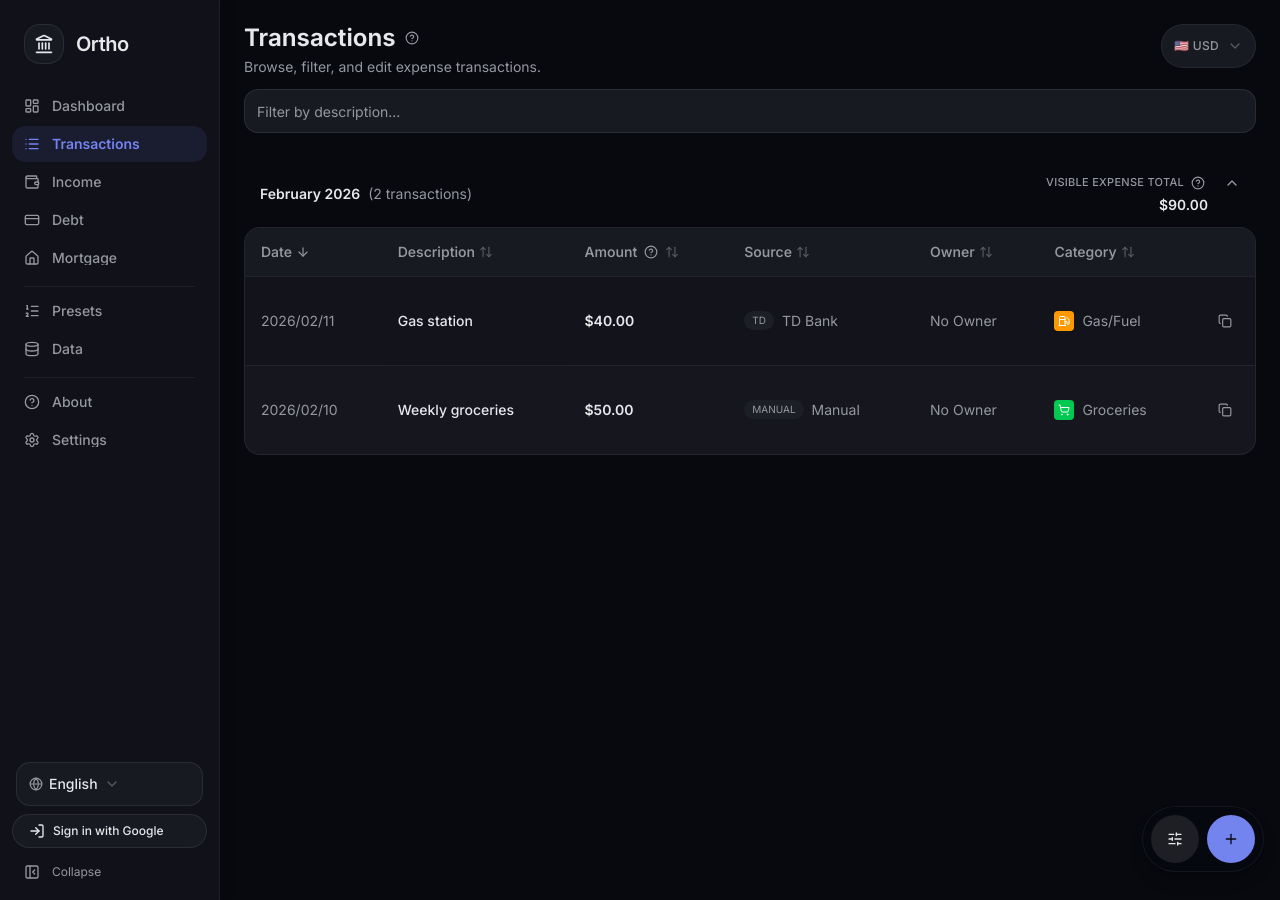
Test: integration: user can search transactions and navigate between pages
The image size is (1280, 900).
Type "weekly" into the field named "Search description".
click(750, 111); type("weekly")  # box [244, 89, 1256, 133]
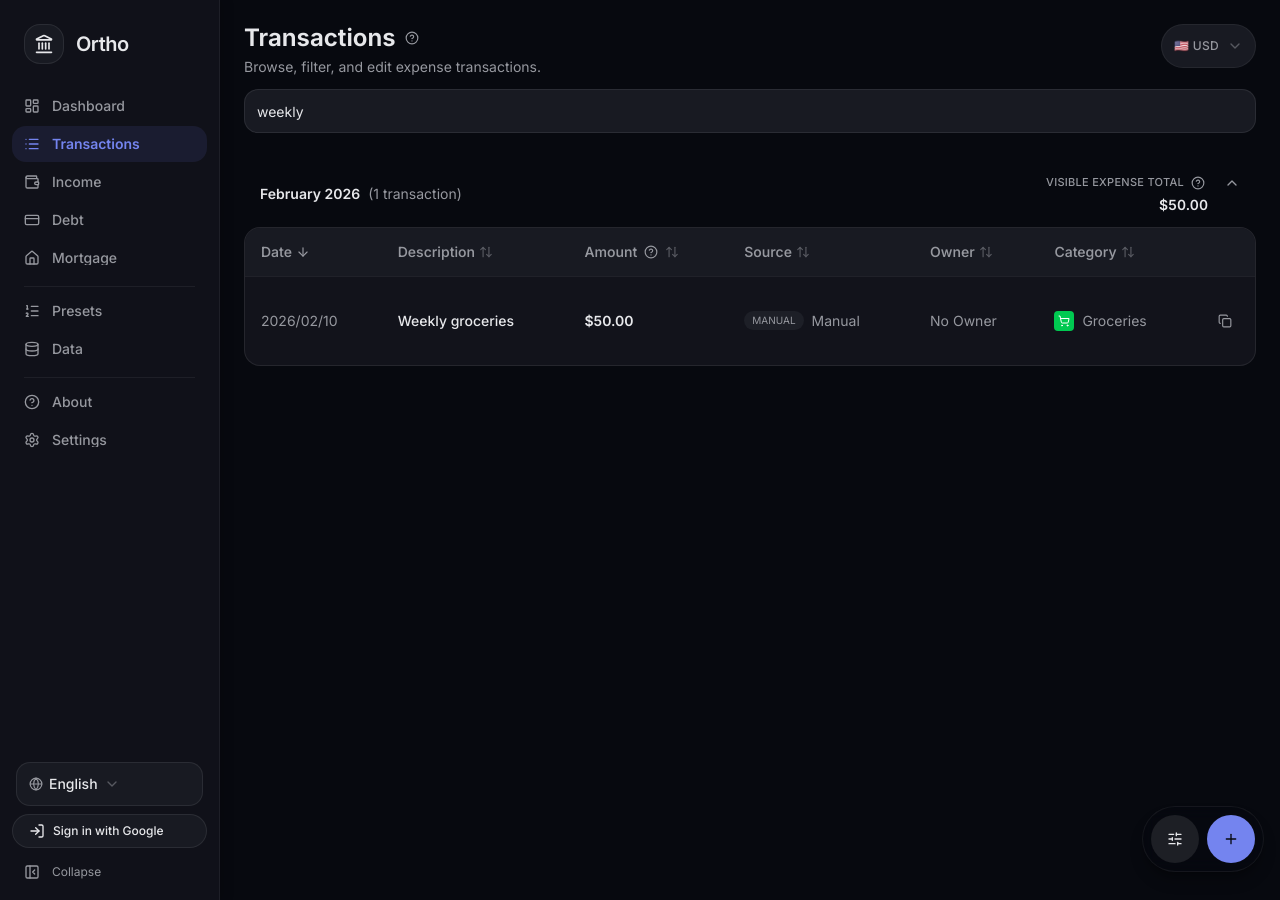
Check: the text "Weekly groceries" is shown, box [382, 276, 568, 365]
Check: the button "Gas station" is gone
Click the link "Income".
click(63, 182)  # box [24, 173, 101, 190]
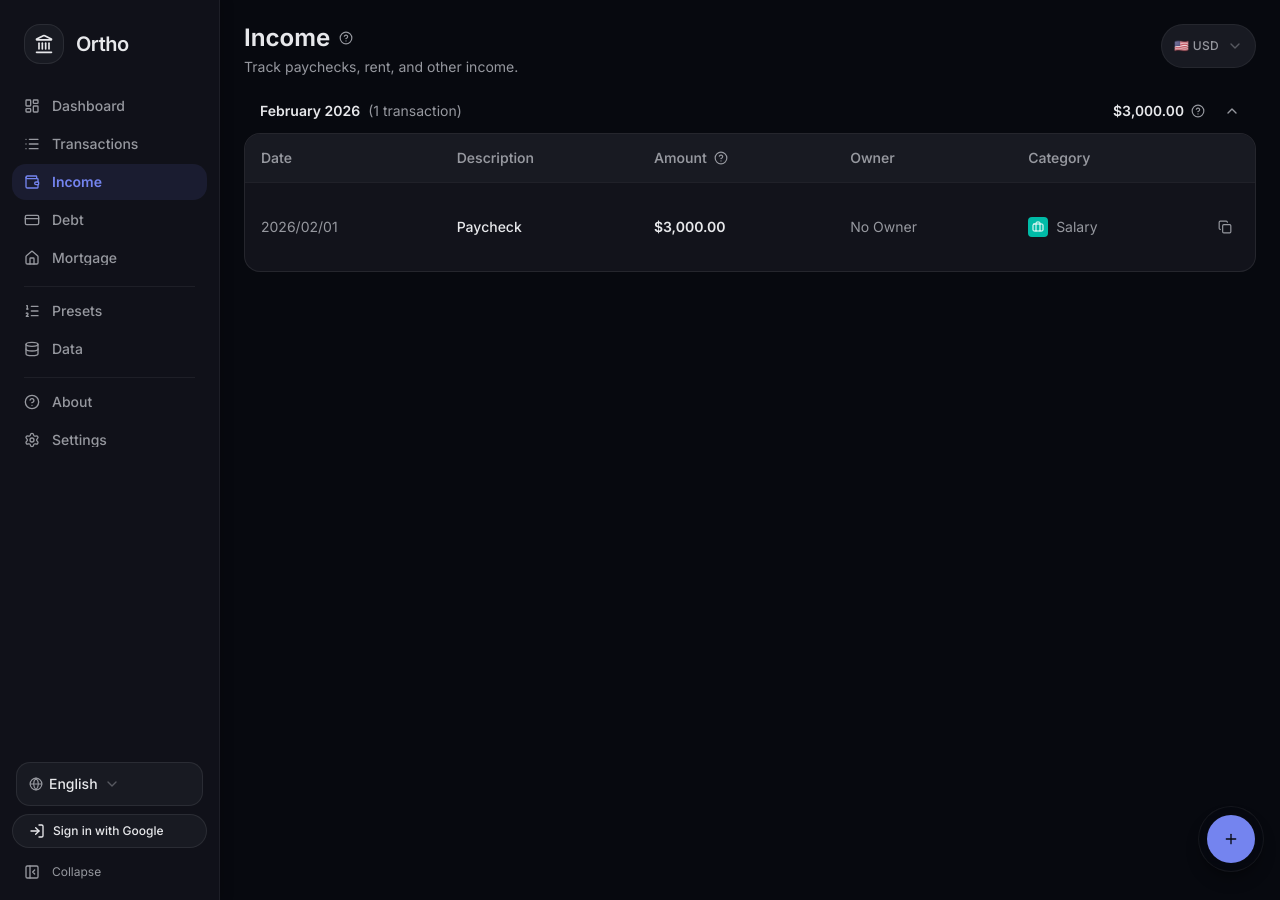
Check: the heading "Income" is shown, box [244, 24, 356, 52]
Click the link "Transactions".
click(81, 144)  # box [24, 135, 138, 152]
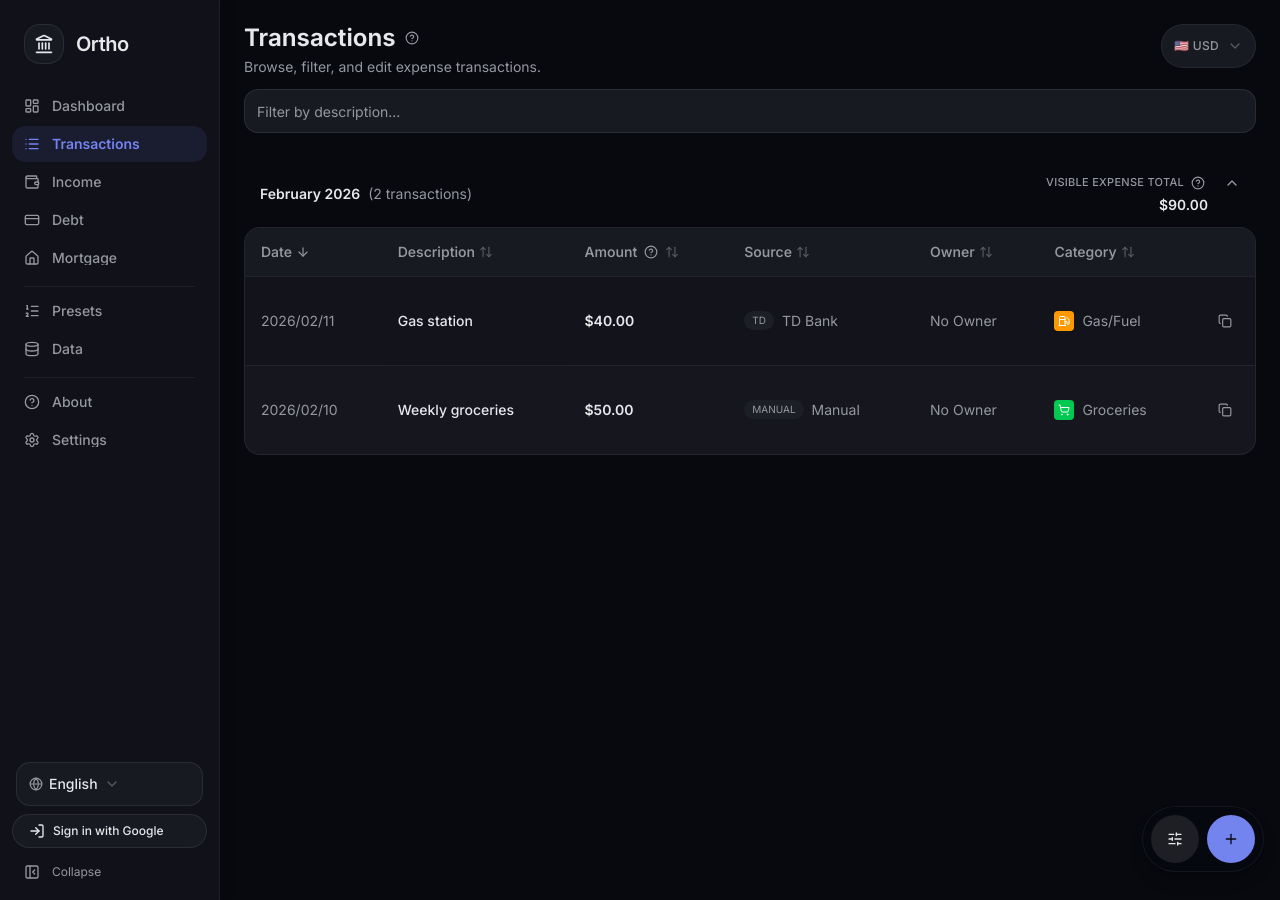
Check: the heading "Transactions" is shown, box [244, 24, 422, 52]
